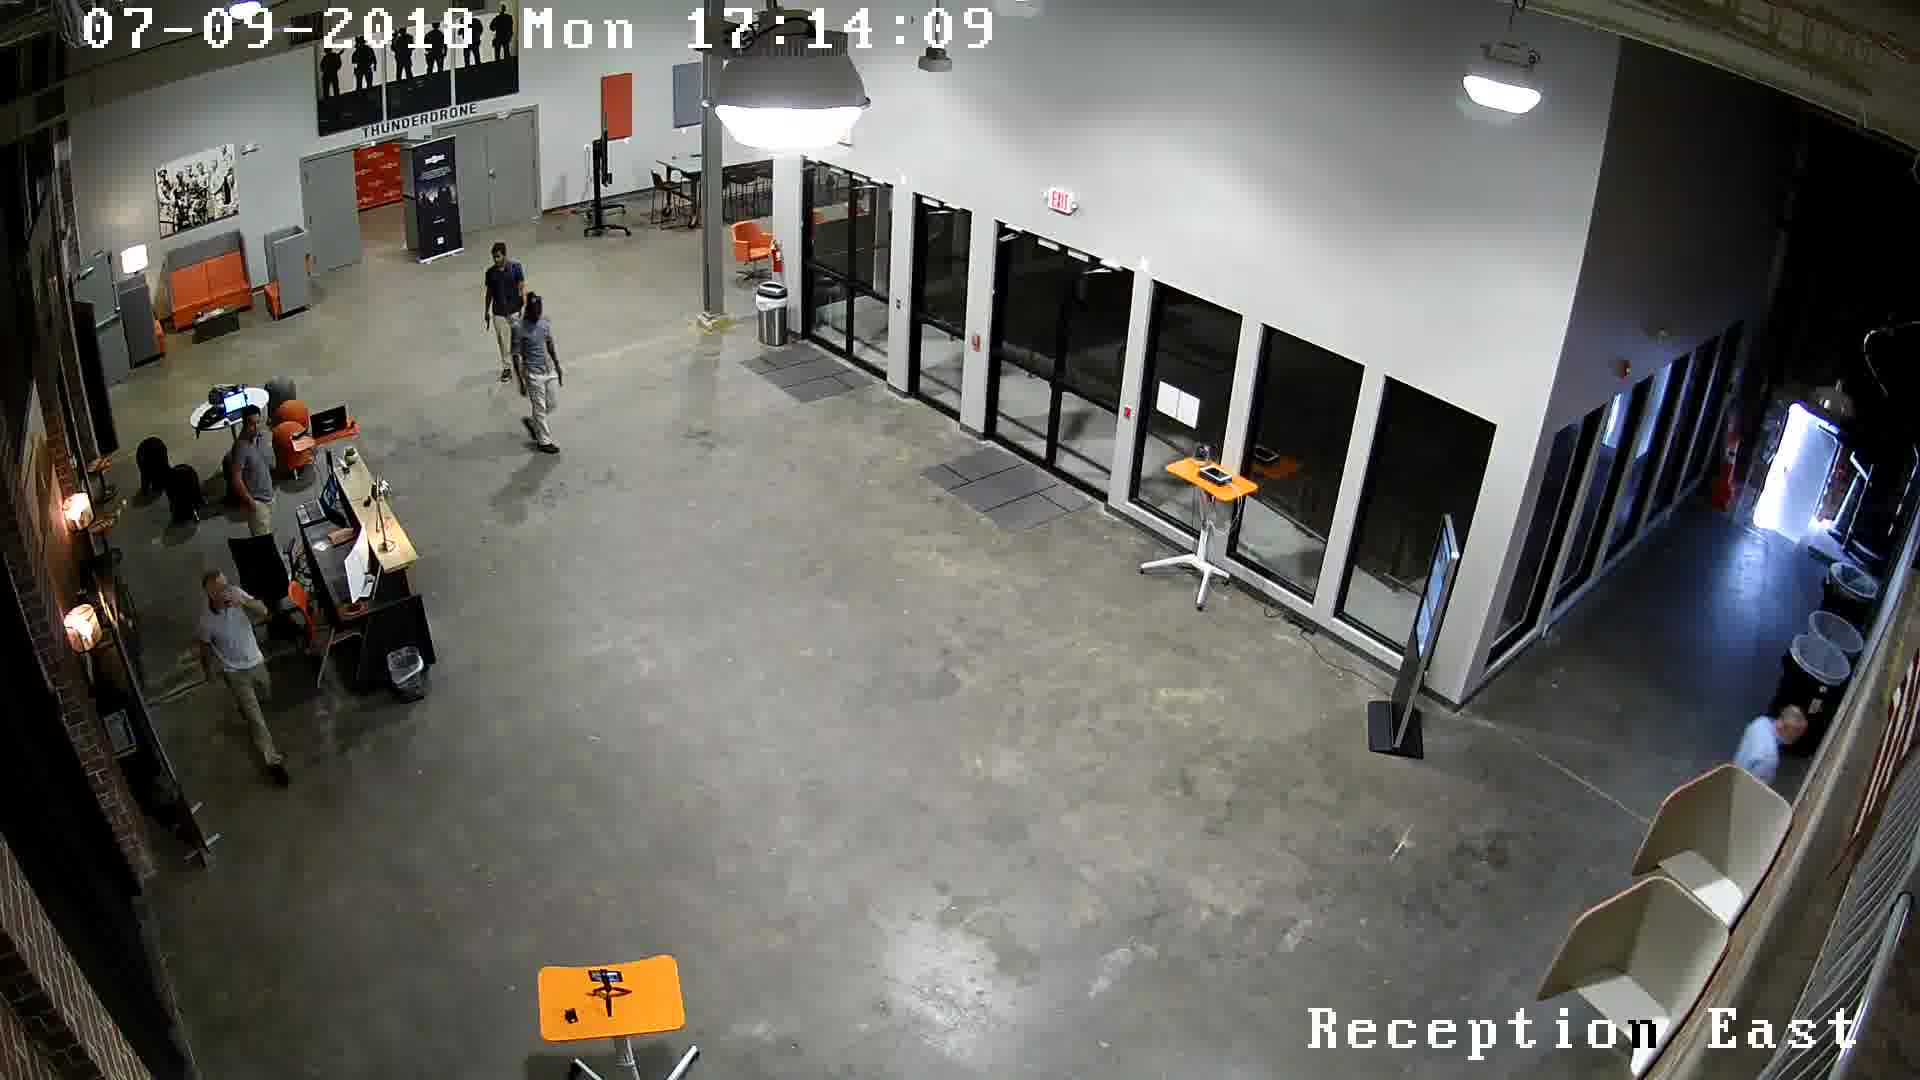pistol: (475, 309, 492, 342), (554, 363, 572, 390)
